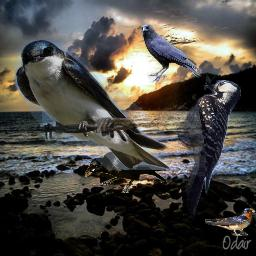Crow: (140, 24, 202, 83), (84, 150, 166, 193)
Swallow: (15, 40, 169, 170), (205, 208, 255, 236)
Woodpecker: (174, 74, 241, 221)
